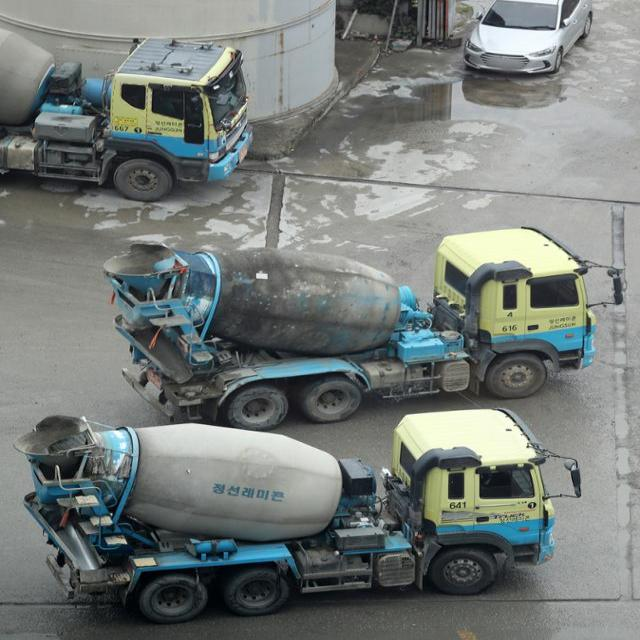Mixer Truck: (12, 407, 559, 626), (99, 223, 598, 433), (0, 25, 255, 204)
